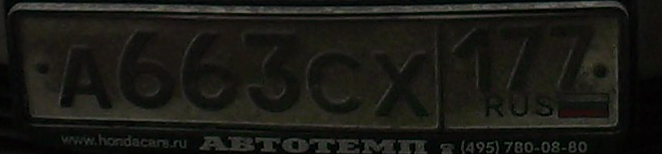character: (176, 24, 244, 114), (242, 22, 302, 117), (117, 25, 176, 113), (54, 41, 118, 116), (305, 44, 366, 120), (544, 19, 601, 95), (372, 51, 431, 121), (493, 20, 544, 96), (448, 25, 494, 99)
